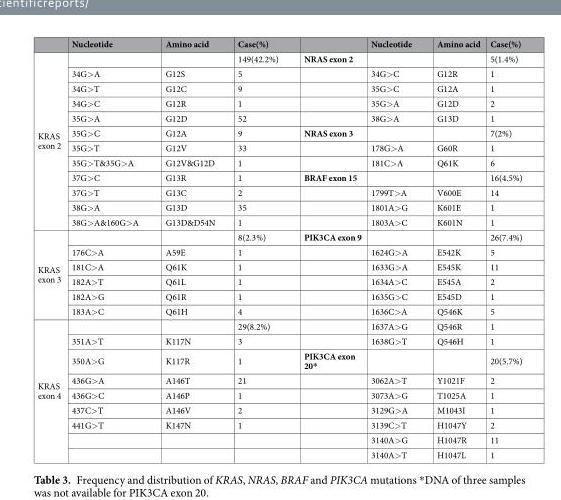table: (36, 37, 521, 460)
table column: (65, 37, 151, 460), (290, 37, 365, 460), (151, 37, 225, 460), (225, 37, 290, 460), (423, 37, 484, 460), (365, 37, 423, 460), (484, 37, 521, 460), (36, 37, 65, 460)
table column header: (36, 37, 521, 50)
table row: (36, 348, 521, 373), (36, 50, 521, 65), (36, 65, 521, 80), (36, 80, 521, 95), (36, 95, 521, 110), (36, 110, 521, 125), (36, 125, 521, 140), (36, 154, 521, 169), (36, 169, 521, 184), (36, 184, 521, 199), (36, 199, 521, 214), (36, 214, 521, 229), (36, 229, 521, 244), (36, 244, 521, 259), (36, 273, 521, 288), (36, 288, 521, 303), (36, 303, 521, 318), (36, 318, 521, 333), (36, 333, 521, 348), (36, 387, 521, 402), (36, 402, 521, 417), (36, 417, 521, 432), (36, 140, 521, 154), (36, 259, 521, 273), (36, 373, 521, 387), (36, 432, 521, 446), (36, 446, 521, 460), (36, 37, 521, 50)
table spanning cell: (36, 50, 65, 229), (36, 318, 65, 460), (36, 229, 65, 318)
